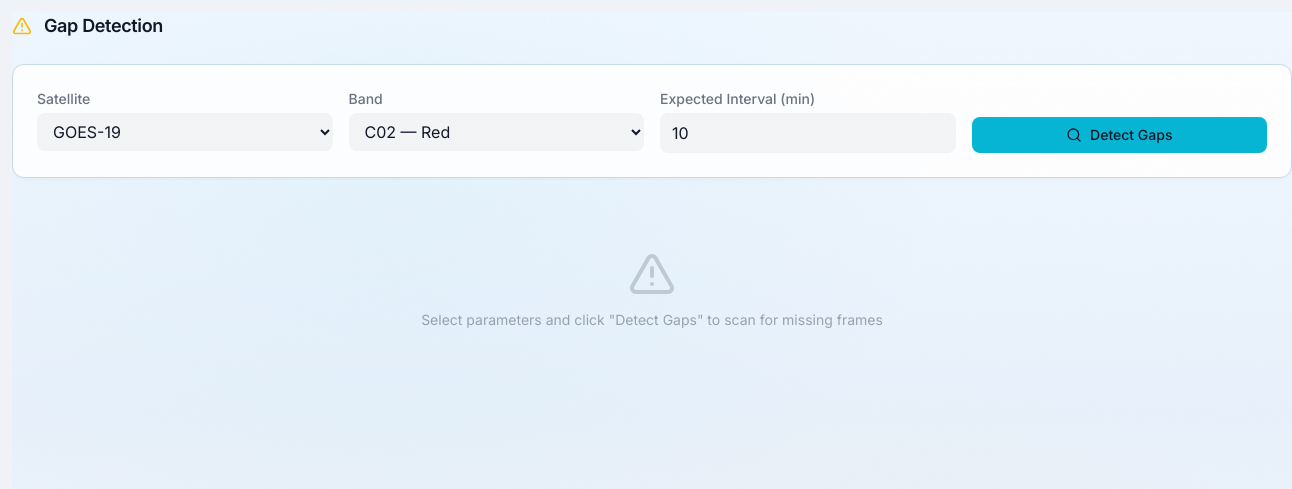
Scenario: GapsTab › renders gap list items
Click the button "Detect Gaps".
click(1119, 135)  # box 972,117 -> 1267,153
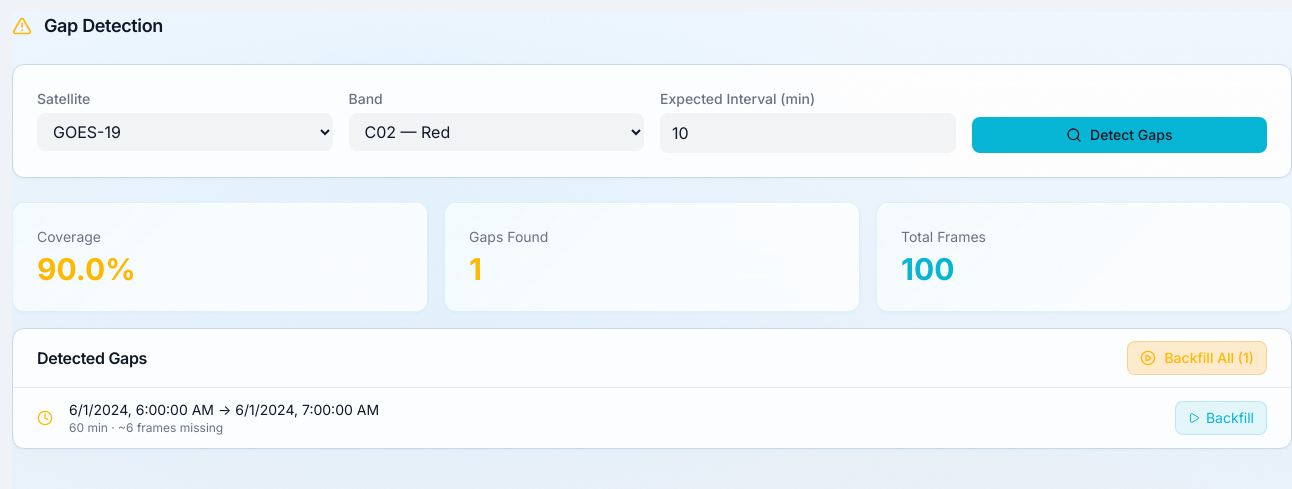
Now the heading "Detected Gaps" is shown, box 37,346 -> 147,370
Now the text "60 min · ~6 frames missing" is shown, box 69,420 -> 223,435
